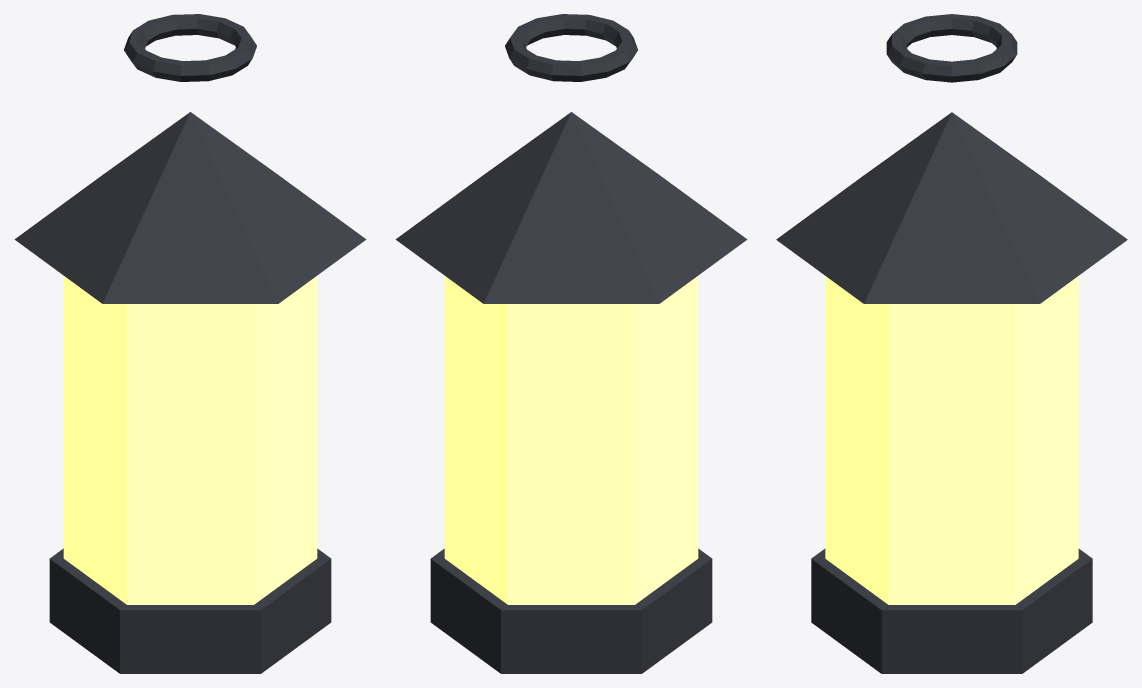
File: lantern_xmas.glb
3 views of the same model, side by side, from view 1: azimuth 30°, elevation 25°; view 2: azimuth 150°, elevation 25°; view 3: azimuth 270°, elevation 25° (orthographic).
Parts seen in each view (by area): view 1: lantern_xmas; view 2: lantern_xmas; view 3: lantern_xmas.
Part boxes in pixels (x1,y1,x2,y2): lantern_xmas: (14,14,366,673); lantern_xmas: (395,14,747,673); lantern_xmas: (776,14,1127,673).
Bounding box in the file's own units: 0.433 × 0.913 × 0.5.
